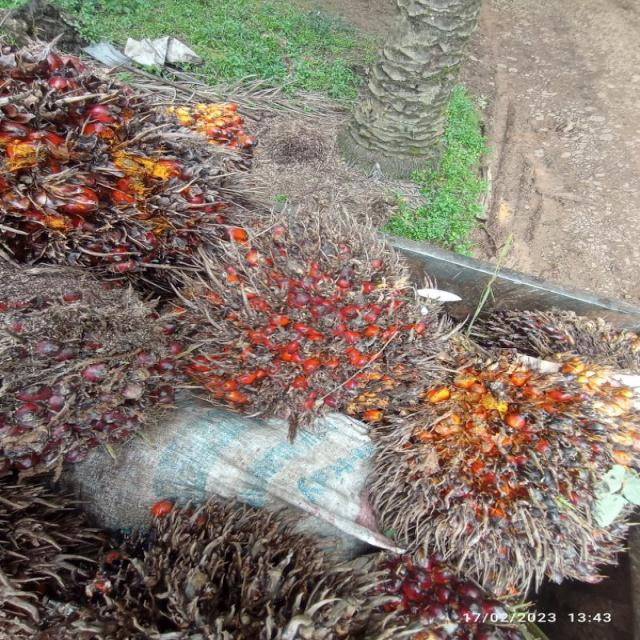fraksi 00: (469, 280, 640, 413)
fraksi 4: (344, 343, 624, 615), (154, 182, 454, 426)
